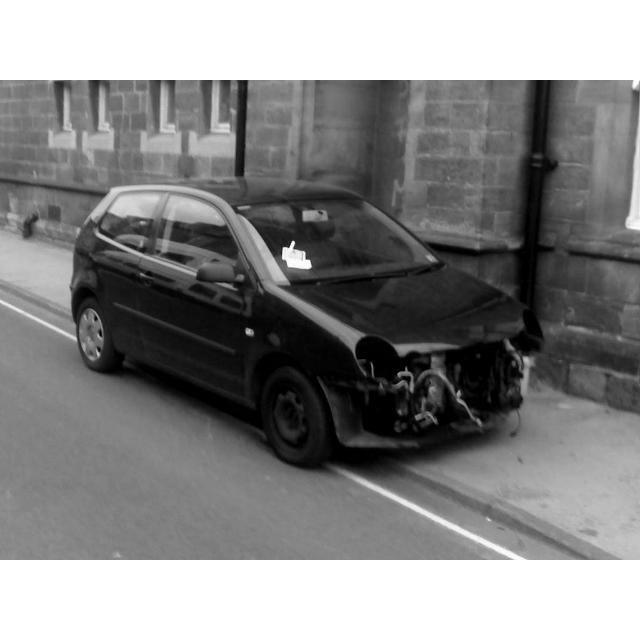front-bumper-dent: (371, 342, 521, 429)
